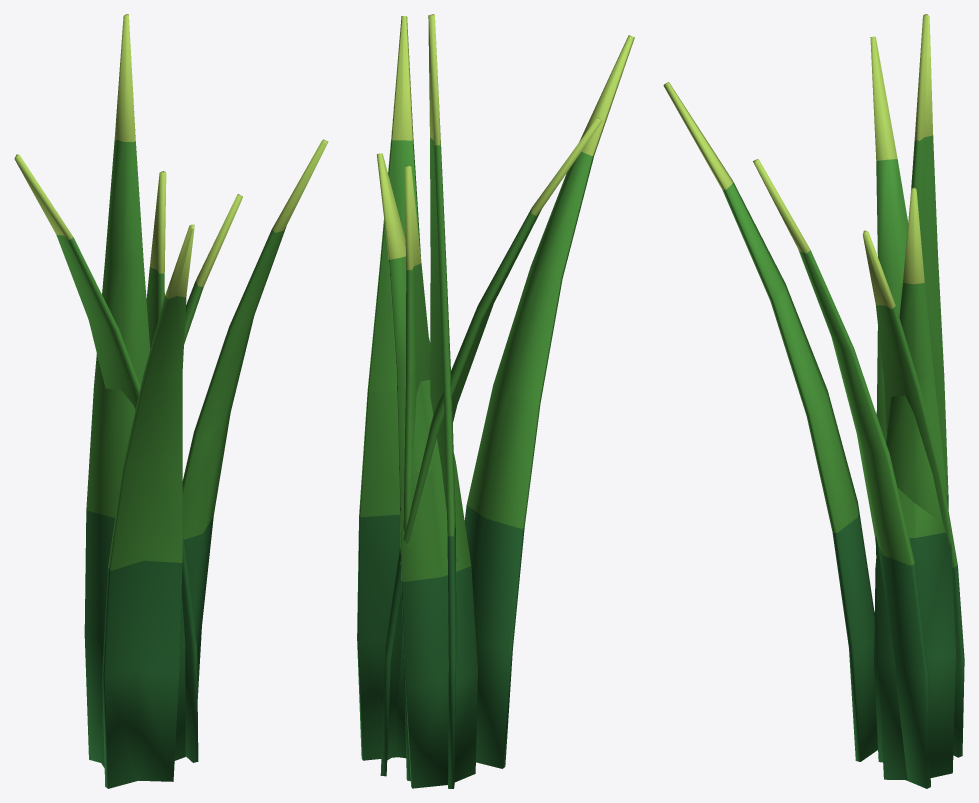
The model's file is glade_grass_tuft.glb.
The picture shows the model from 3 angles, left to right: view 1: azimuth 30°, elevation 25°; view 2: azimuth 150°, elevation 25°; view 3: azimuth 270°, elevation 25°; orthographic projection. The views are drawn at different scales.
Parts seen in each view (by area): view 1: glade_grass_tuft; view 2: glade_grass_tuft; view 3: glade_grass_tuft.
Part boxes in pixels (x1,y1,x2,y2): glade_grass_tuft: (14, 14, 328, 788); glade_grass_tuft: (357, 14, 634, 788); glade_grass_tuft: (663, 14, 964, 788).
Bounding box in the file's own units: 3.23 × 9 × 3.32.
